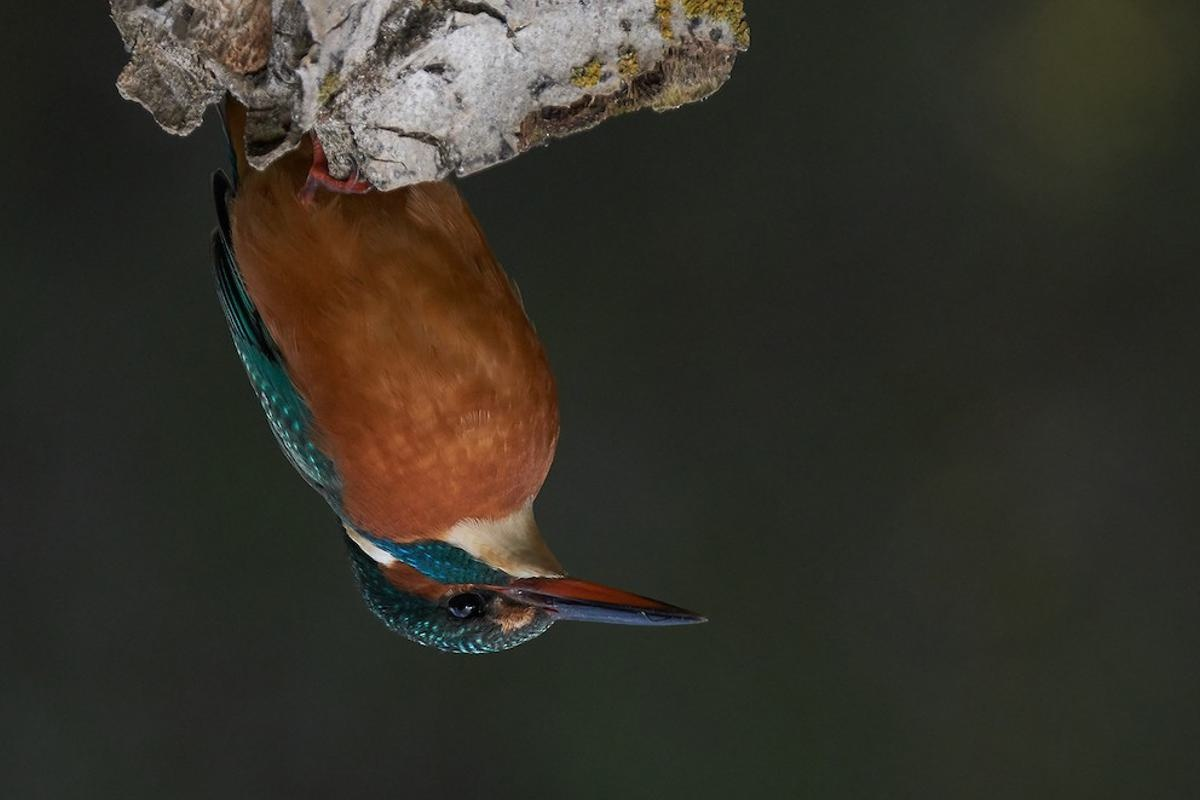kingfisher: (176, 125, 718, 661)
